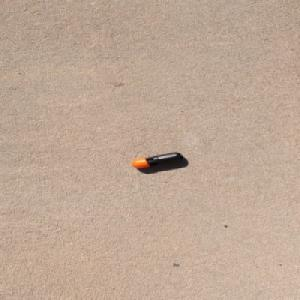PlasticPart: (130, 151, 184, 168)
